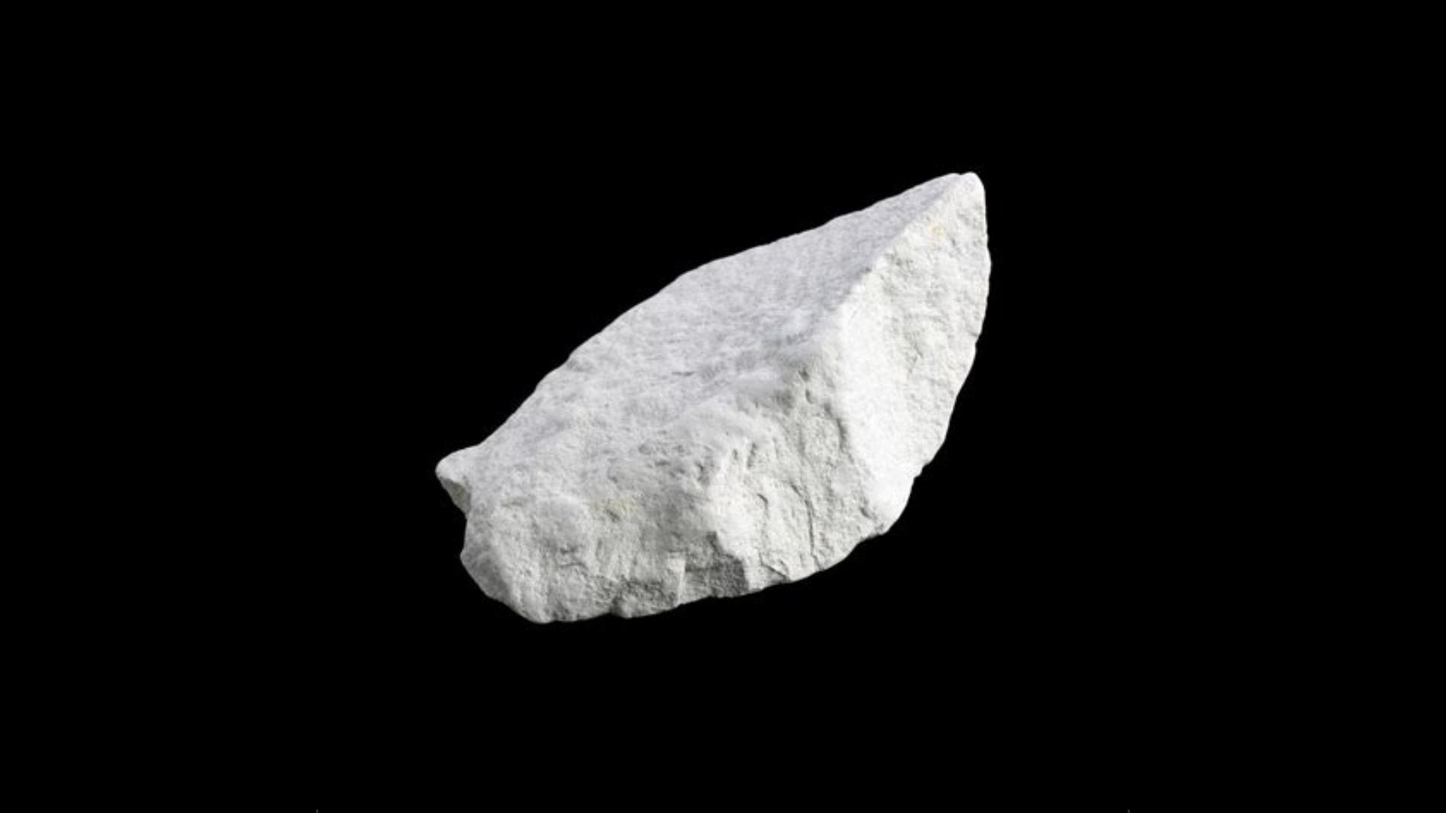rock: (436, 175, 987, 621)
